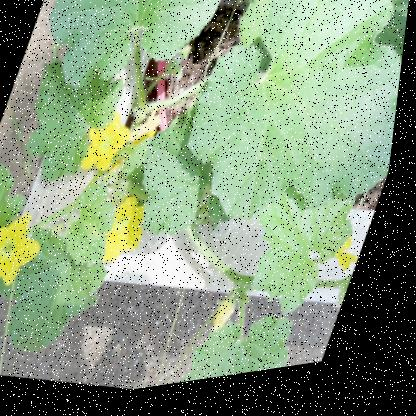Normal: (172, 0, 414, 258), (2, 38, 144, 204), (31, 0, 237, 107), (0, 218, 130, 374)
